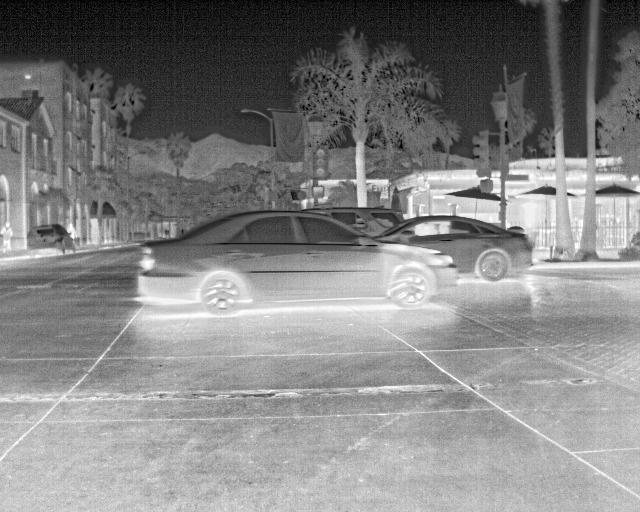bicycle: (137, 207, 460, 317), (373, 213, 533, 281), (298, 206, 406, 239), (24, 222, 77, 258)
empty: (0, 221, 14, 253), (65, 221, 78, 241)
